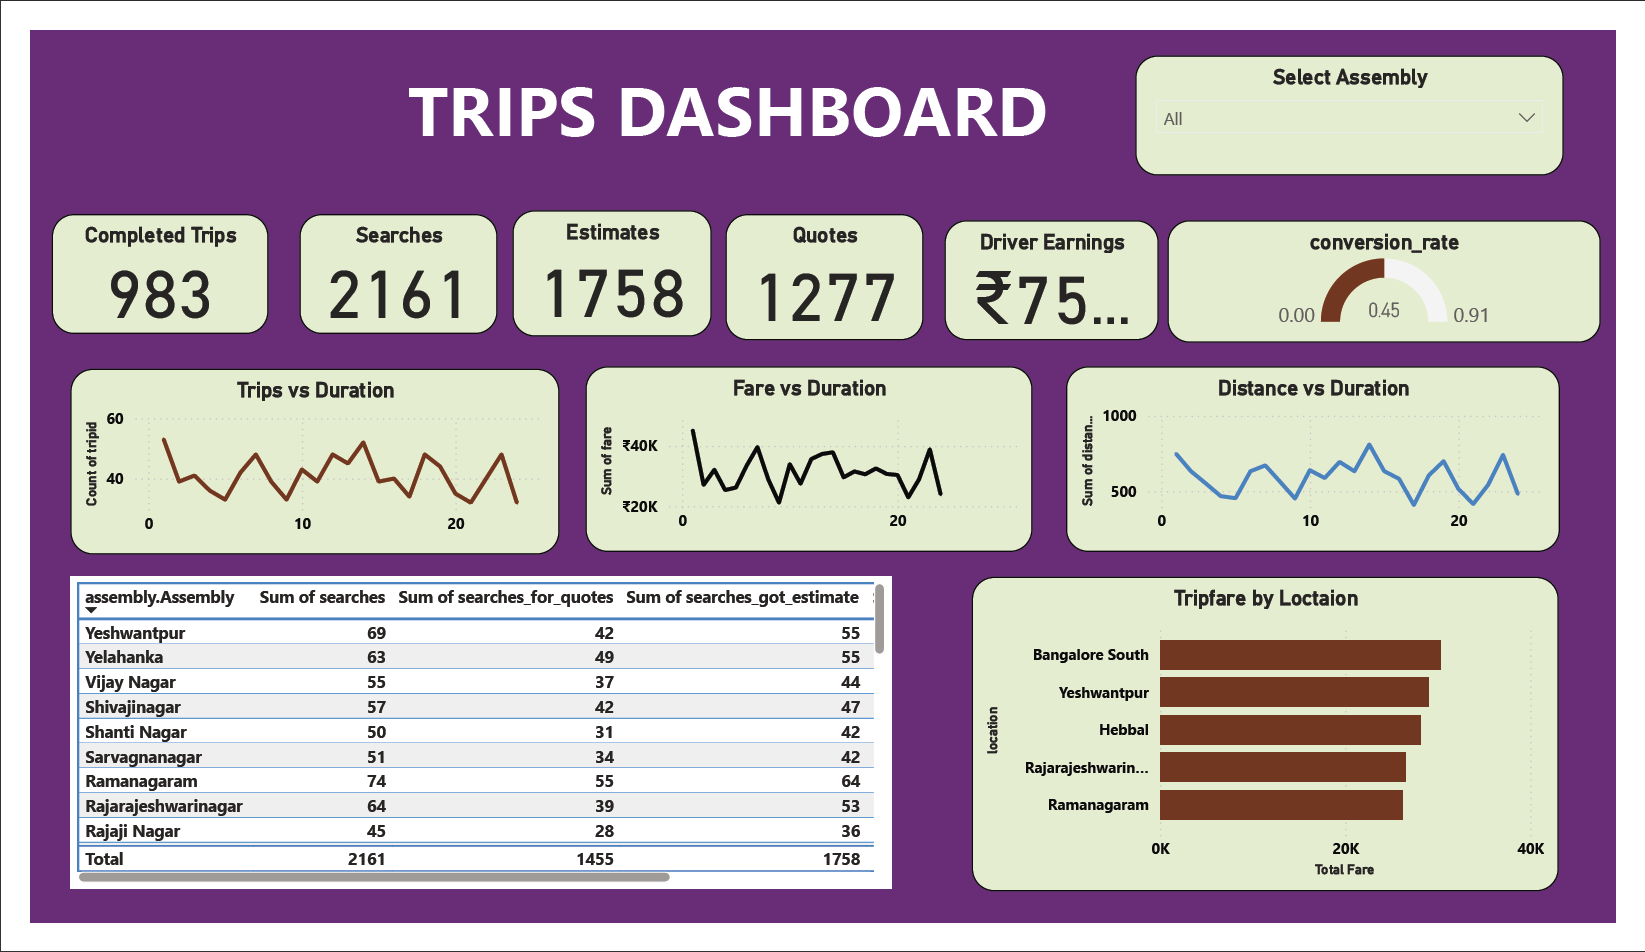

The dashboard page shown, as its layout file describes it:
{"tool":"powerbi","page":{"name":"Page 1","canvas":[1280,720],"ordinal":0},"visuals":[{"type":"card","title":"Completed Trips","fields":{"Values":["Sum(trip_details.end_ride)"]},"box":[16.7,148.5,175.8,97],"z":0},{"type":"card","title":"Searches","fields":{"Values":["Sum(trip_details.searches)"]},"box":[216.7,148.5,160.6,97],"z":1000},{"type":"card","title":"Estimates","fields":{"Values":["Sum(trip_details.searches_got_estimate)"]},"box":[389.4,145.5,160.6,101.5],"z":2000},{"type":"card","title":"Quotes","fields":{"Values":["Sum(trip_details.searches_got_quotes)"]},"box":[560.6,148.5,160.6,101.5],"z":3000},{"type":"card","title":"Driver Earnings","fields":{"Values":["Sum(trips.fare)"]},"box":[737.9,153,172.7,97],"z":4000},{"type":"gauge","fields":{"Y":["assembly.conversion_rate"]},"box":[918.2,153,350,98.5],"z":5000},{"type":"lineChart","title":"Trips vs Duration","fields":{"Category":["trips.duration"],"Y":["CountNonNull(trips.tripid)"]},"box":[31.8,272.7,395.5,150],"z":6000},{"type":"lineChart","title":"Fare vs Duration","fields":{"Y":["Sum(trips.fare)"],"Category":["trips.duration"]},"box":[448.5,271.2,360.6,150],"z":7000},{"type":"lineChart","title":"Distance vs Duration","fields":{"Category":["trips.duration"],"Y":["Sum(trips.distance)"]},"box":[836.4,271.2,398.5,150],"z":8000},{"type":"tableEx","fields":{"Values":["Merge2.assembly.Assembly","Sum(Merge2.searches)","Sum(Merge2.searches_for_quotes)","Sum(Merge2.searches_got_estimate)","Sum(Merge2.trips.fare)","assembly.conversion_rate"]},"box":[31.9,440.9,662.8,252.4],"z":9000},{"type":"textbox","box":[254.5,19.7,616.7,97],"z":10000},{"type":"slicer","title":"Select Assembly","fields":{"Values":["Merge2.assembly.Assembly"]},"box":[892.4,19.7,345.5,97],"z":11000},{"type":"barChart","title":"Tripfare by Loctaion","fields":{"Category":["Merge2.assembly.Assembly"],"Y":["Sum(Merge2.trips.fare)"]},"box":[760.1,440.9,474.3,253.9],"z":13000}]}

Visuals, with their boxes on the page's 1280x720 design canvas (x1, y1, x2, y2). These are canvas units, not pixel positions in the 1645x952 screenshot, which may show the page scaled, cropped or inside an application window:
"Completed Trips" card: {"x1": 17, "y1": 148, "x2": 192, "y2": 246}
"Searches" card: {"x1": 217, "y1": 148, "x2": 377, "y2": 246}
"Estimates" card: {"x1": 389, "y1": 146, "x2": 550, "y2": 247}
"Quotes" card: {"x1": 561, "y1": 148, "x2": 721, "y2": 250}
"Driver Earnings" card: {"x1": 738, "y1": 153, "x2": 911, "y2": 250}
gauge - assembly.conversion_rate: {"x1": 918, "y1": 153, "x2": 1268, "y2": 252}
"Trips vs Duration" lineChart: {"x1": 32, "y1": 273, "x2": 427, "y2": 423}
"Fare vs Duration" lineChart: {"x1": 448, "y1": 271, "x2": 809, "y2": 421}
"Distance vs Duration" lineChart: {"x1": 836, "y1": 271, "x2": 1235, "y2": 421}
tableEx - Merge2.assembly.Assembly x Sum(Merge2.searches): {"x1": 32, "y1": 441, "x2": 695, "y2": 693}
textbox: {"x1": 254, "y1": 20, "x2": 871, "y2": 117}
"Select Assembly" slicer: {"x1": 892, "y1": 20, "x2": 1238, "y2": 117}
"Tripfare by Loctaion" barChart: {"x1": 760, "y1": 441, "x2": 1234, "y2": 695}
